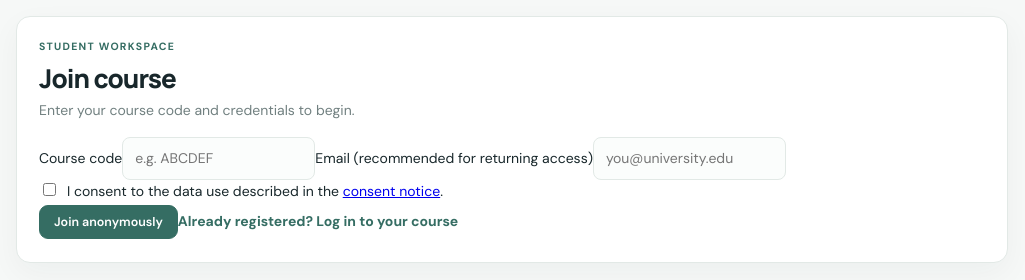
student integration › Join page & returning student login › can toggle between new registration and returning student login
Expected: the heading "Join course" is shown, [39, 60, 176, 96]
Click the button "Already registered? Log in to your course" at x=318, y=221, box [178, 202, 458, 240]
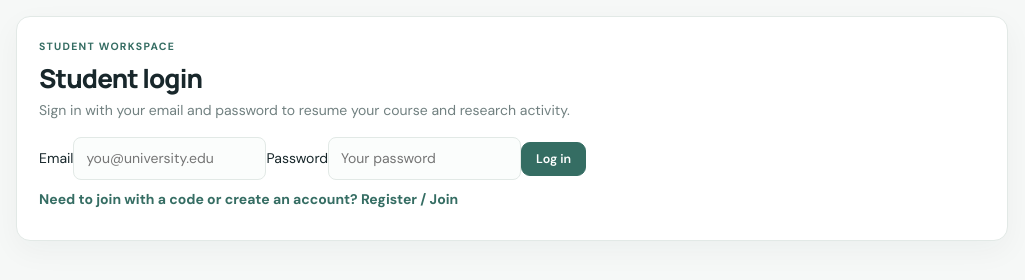
Expected: the heading "Student login" is shown, [39, 60, 202, 96]
Click the button "Register / Join" at x=249, y=199, box [39, 180, 458, 218]
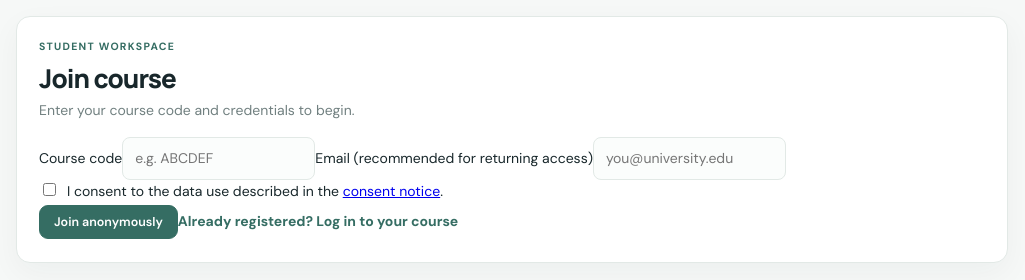
Expected: the heading "Join course" is shown, [39, 60, 176, 96]
